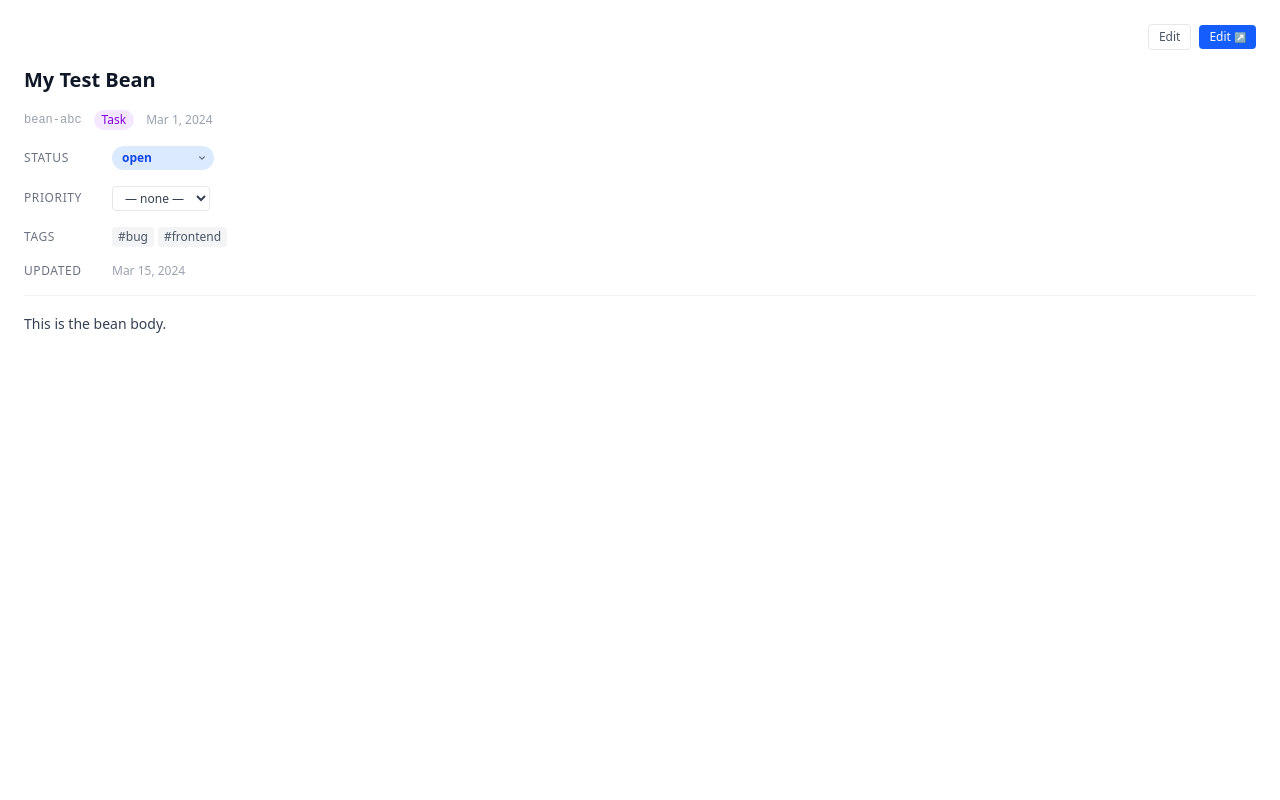
BeanDetail › cancel button exits edit mode without saving
This screenshot has width=1280, height=800.
Click the button "Edit" at (1170, 37), box [1148,24,1191,50]
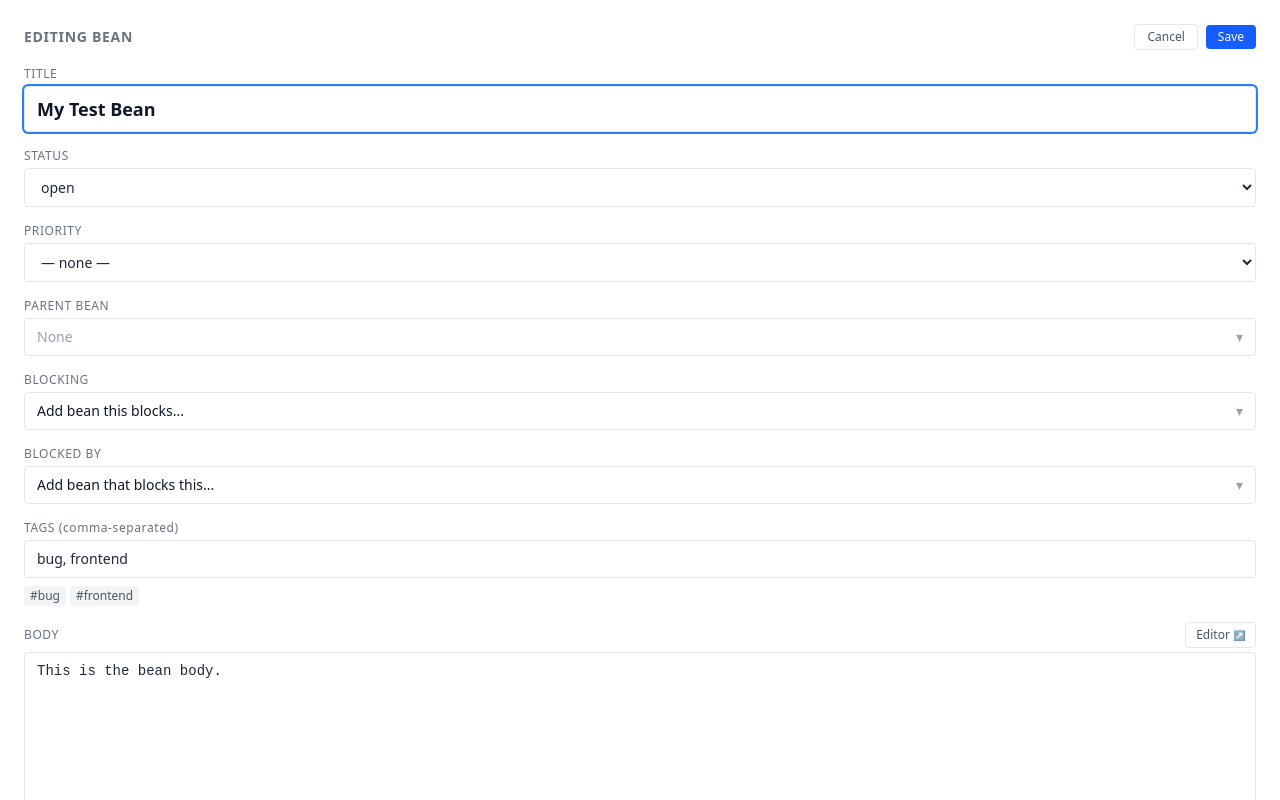
expect the heading "Editing Bean" is shown: met, box [24,27,133,47]
Click the button "Cancel" at (1166, 37), box [1134,24,1198,50]
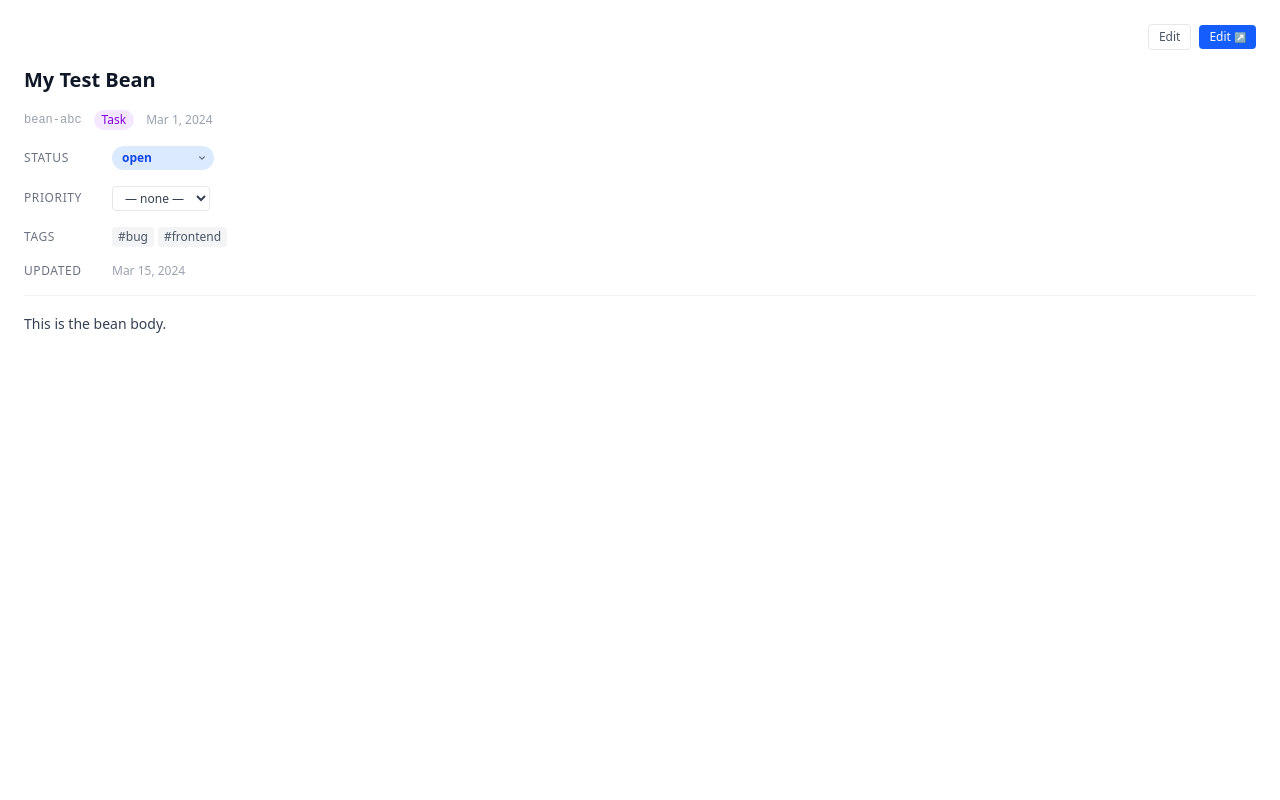
expect the heading "My Test Bean" is shown: met, box [24,66,156,93]
expect the heading "Editing Bean" is gone: met
